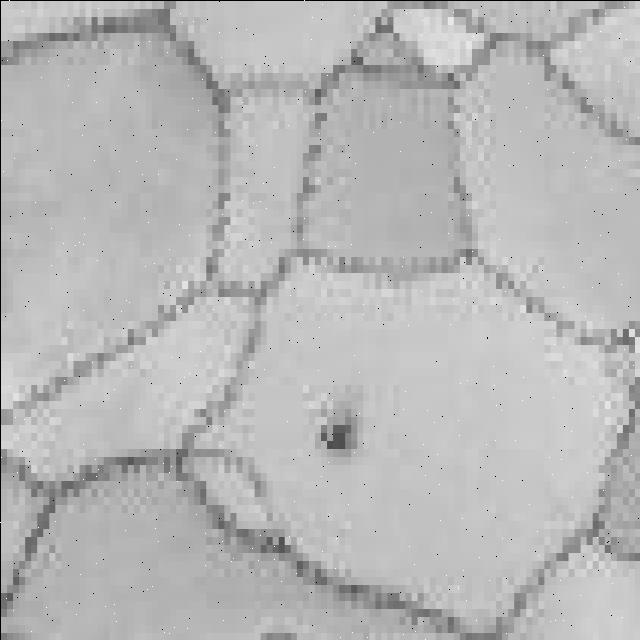good_void: (304, 378, 368, 463)
